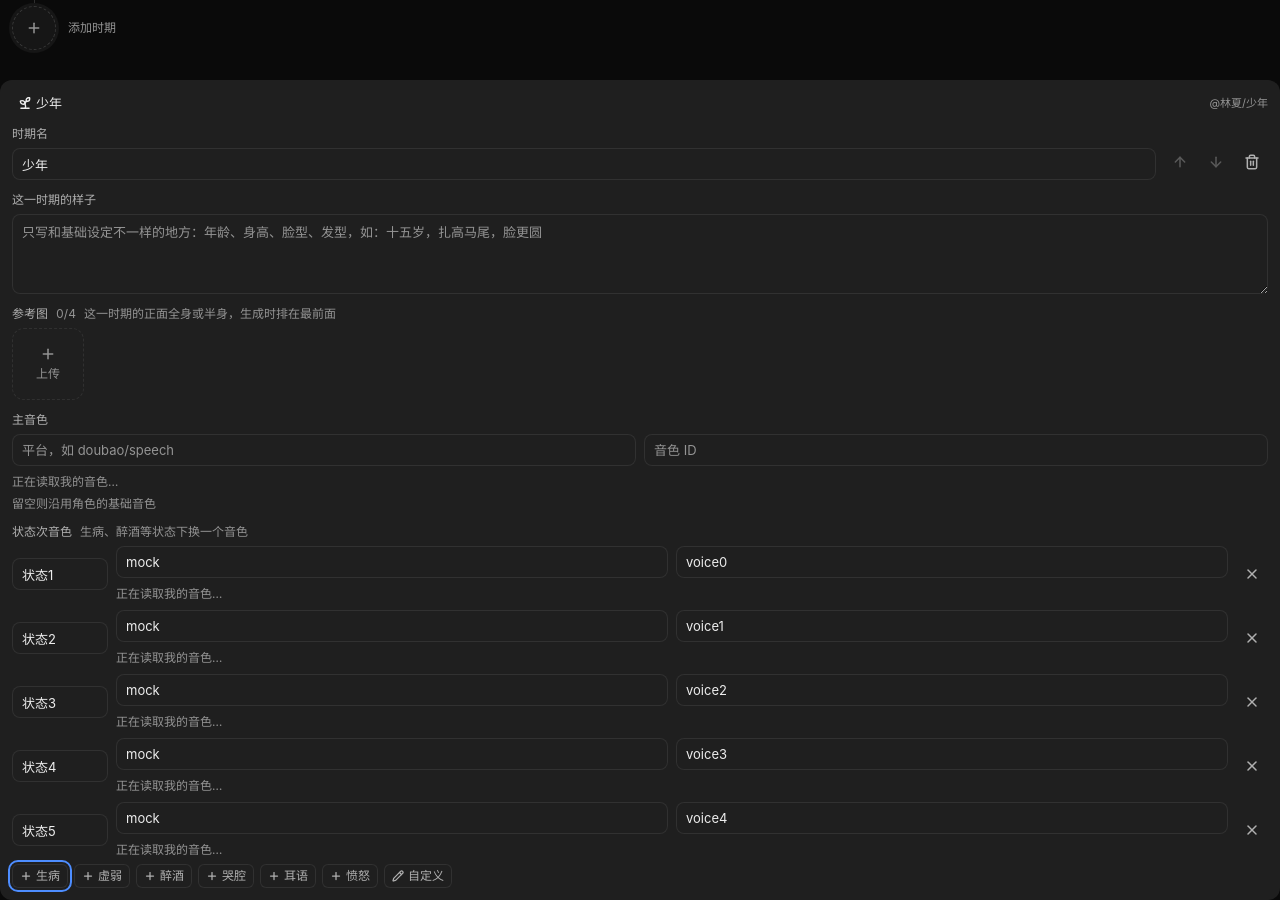
Test: 角色档案面板 › 次音色填满第六项后聚焦新状态，删掉后回到邻项并恢复添加
(page scrolled)
Click the button "生病" at (40, 876), box [12,864,68,888]
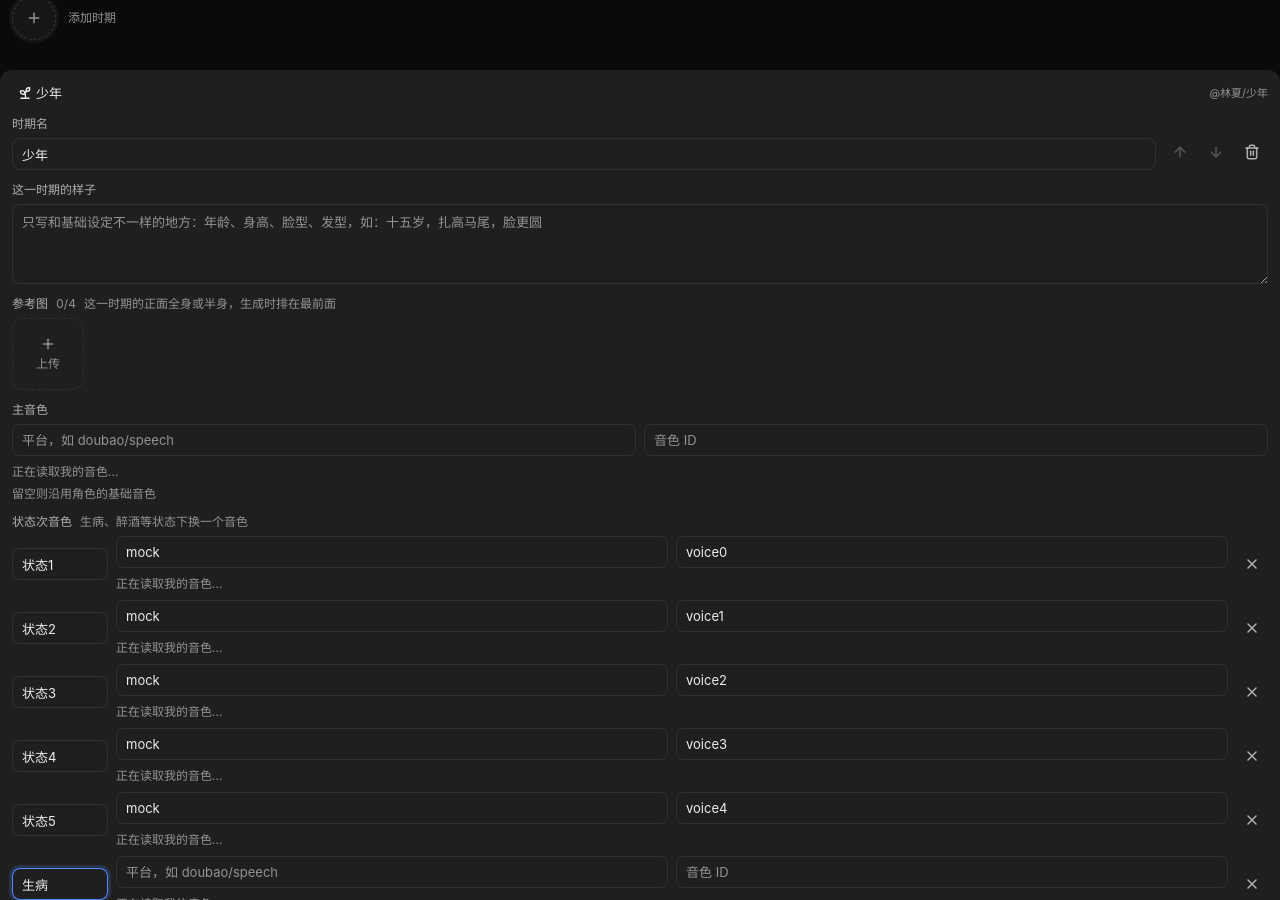
Expected: the number of fields named "状态" is 6, [12,548,108,580]; [12,612,108,644]; [12,676,108,708]; [12,740,108,772]; [12,804,108,836]; [12,868,108,899]
Click the button named "删除次音色「生病」" at (1252, 884), box [1236,868,1268,899]
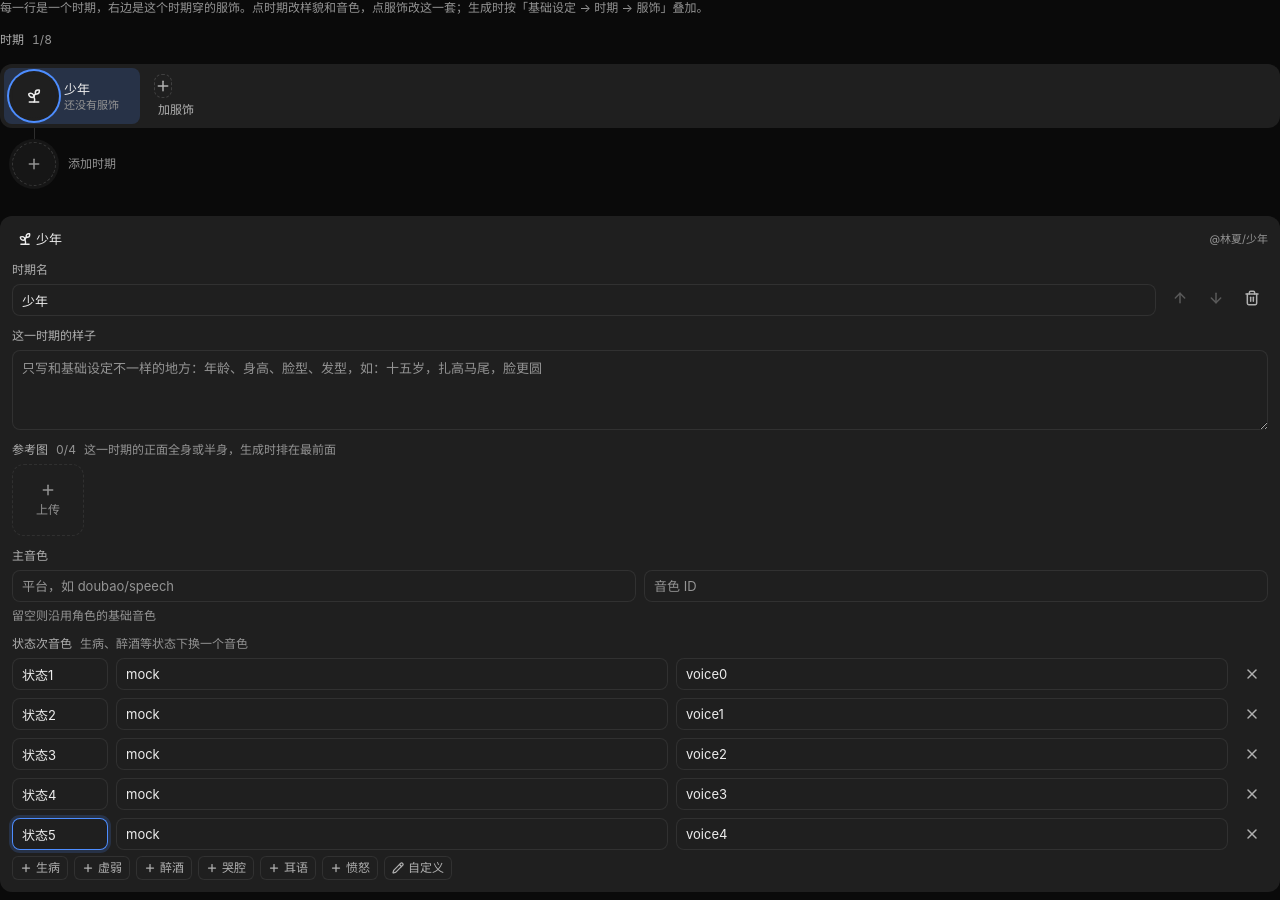
Expected: the 5th field named "状态" holds "状态5", [12,818,108,850]
Expected: the button "生病" is shown, [12,856,68,880]
